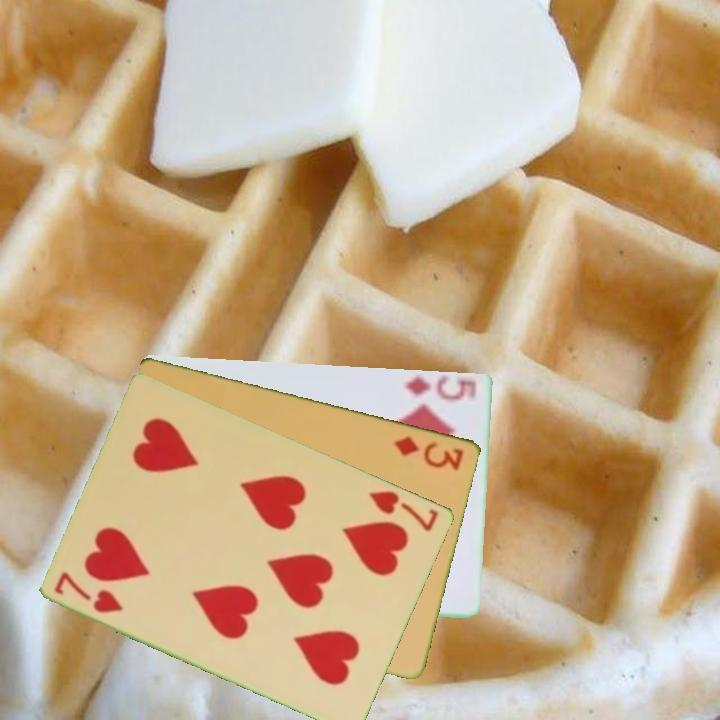3d: (390, 432, 467, 473)
5d: (400, 371, 479, 403)
7h: (365, 486, 442, 534), (51, 568, 127, 616)
